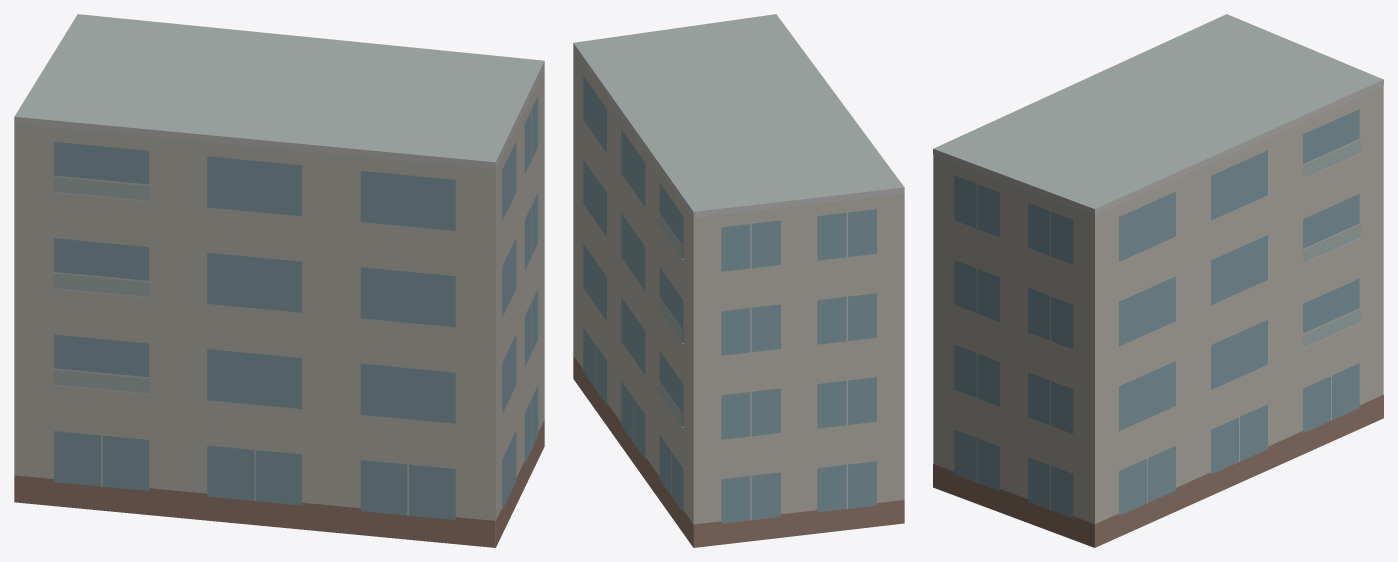
File: survey-upis-32732621.glb
3 views of the same model, side by side, from view 1: azimuth 30°, elevation 25°; view 2: azimuth 150°, elevation 25°; view 3: azimuth 270°, elevation 25° (orthographic). The views are drawn at different scales.
Visible parts, largest first — view 1: survey-upis-32732621.tmp; view 2: survey-upis-32732621.tmp; view 3: survey-upis-32732621.tmp.
Boxes of the visible parts, left/top/right/bottom form: survey-upis-32732621.tmp: left=14, top=14, right=544, bottom=547; survey-upis-32732621.tmp: left=573, top=14, right=904, bottom=547; survey-upis-32732621.tmp: left=933, top=14, right=1383, bottom=547.
Bounding box in the file's own units: 16.56 × 13.4 × 16.16.
